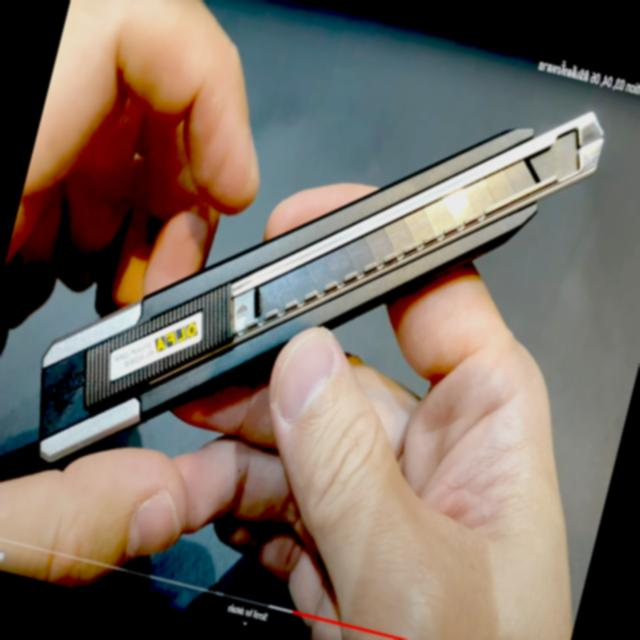cutter: (0, 0, 616, 579)
